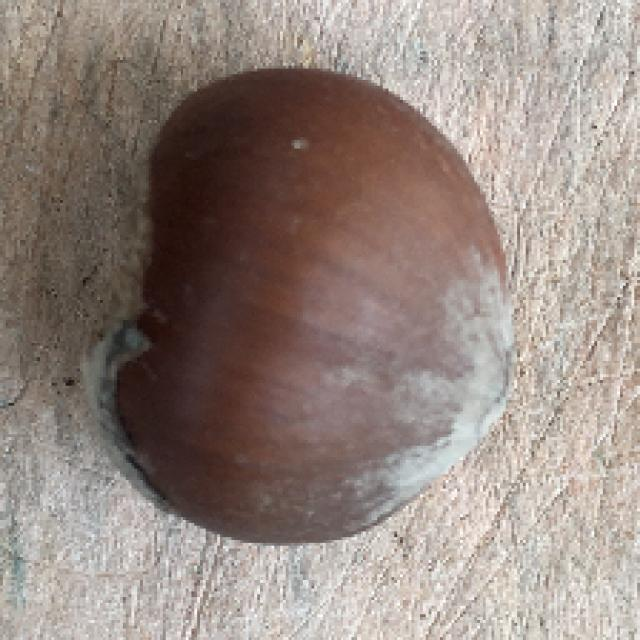damagedHazelnut: (84, 51, 521, 551)
